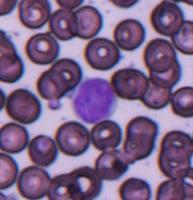L: (72, 76, 118, 125)
